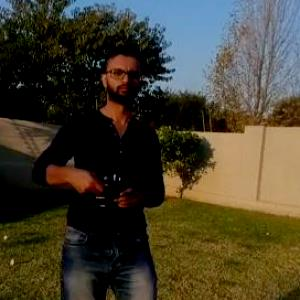follow: (28, 39, 168, 299)
